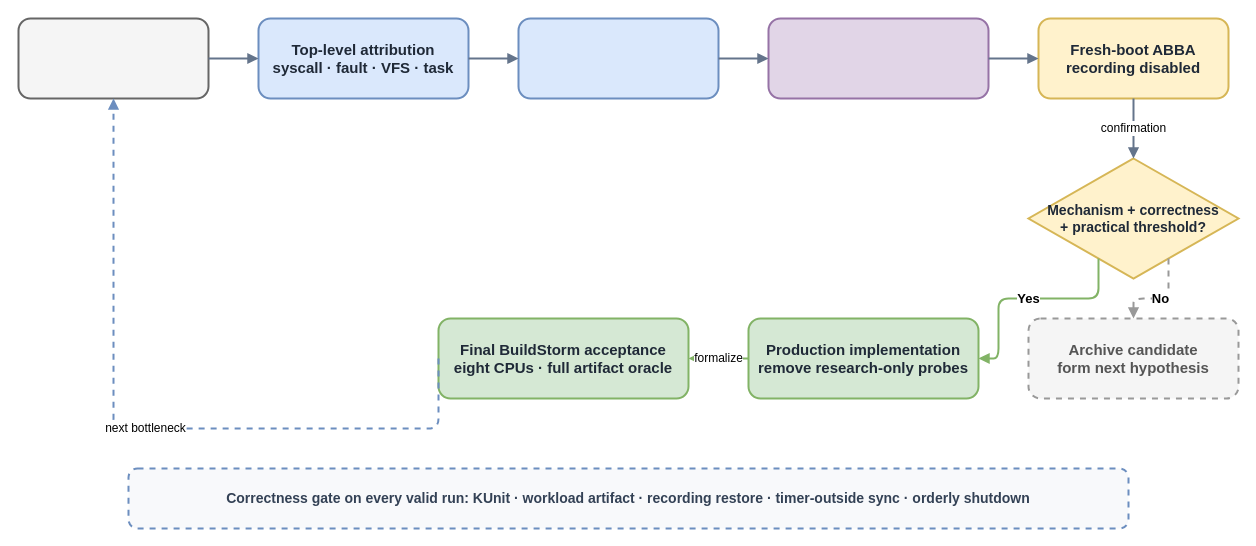
This 1256x546 diagram has some shape labels left out. The centre of each missing label's shape, as x and y in pixels:
Focused mechanism anemone-bench + counterfactual: pixel 878 58
Macro workload BuildStorm / Cargo: pixel 113 58
Native observation debug::perf + perfctl: pixel 618 58
